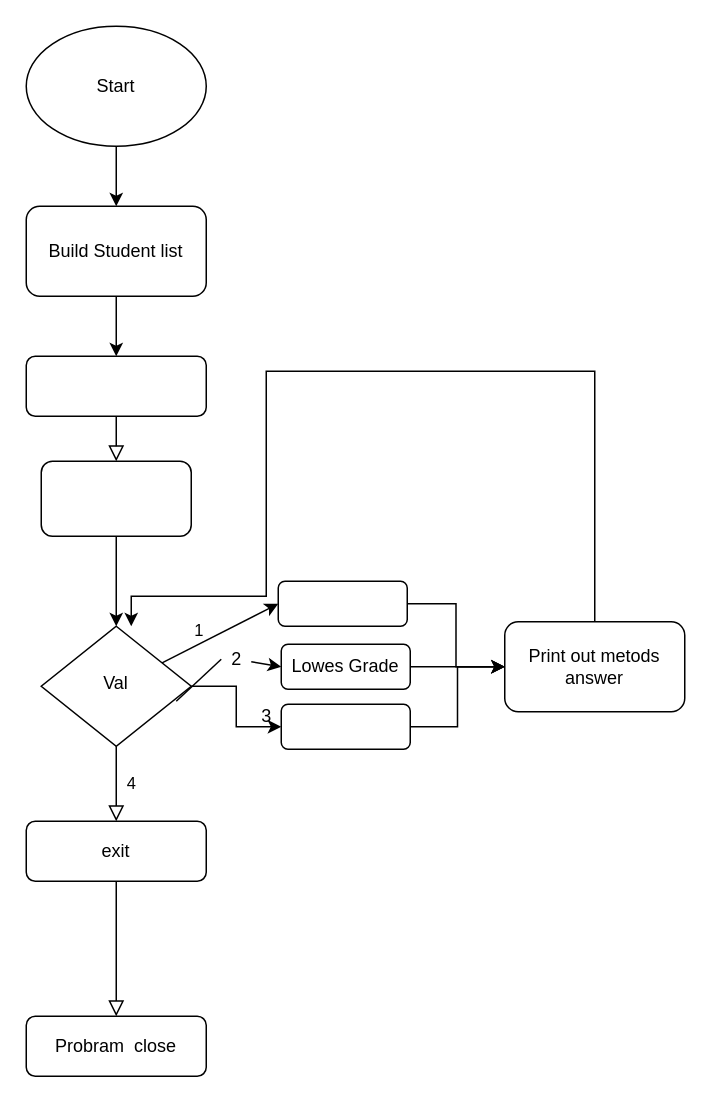
Image size: 711x1103. Some labels were removed from this diagram. Each missing label, with the centre of its shape:
Avrage Grade: (x=345, y=726)
Highest Grade: (x=342, y=603)
input Elev name: (x=115, y=498)
Printar names och grades: (x=115, y=385)
